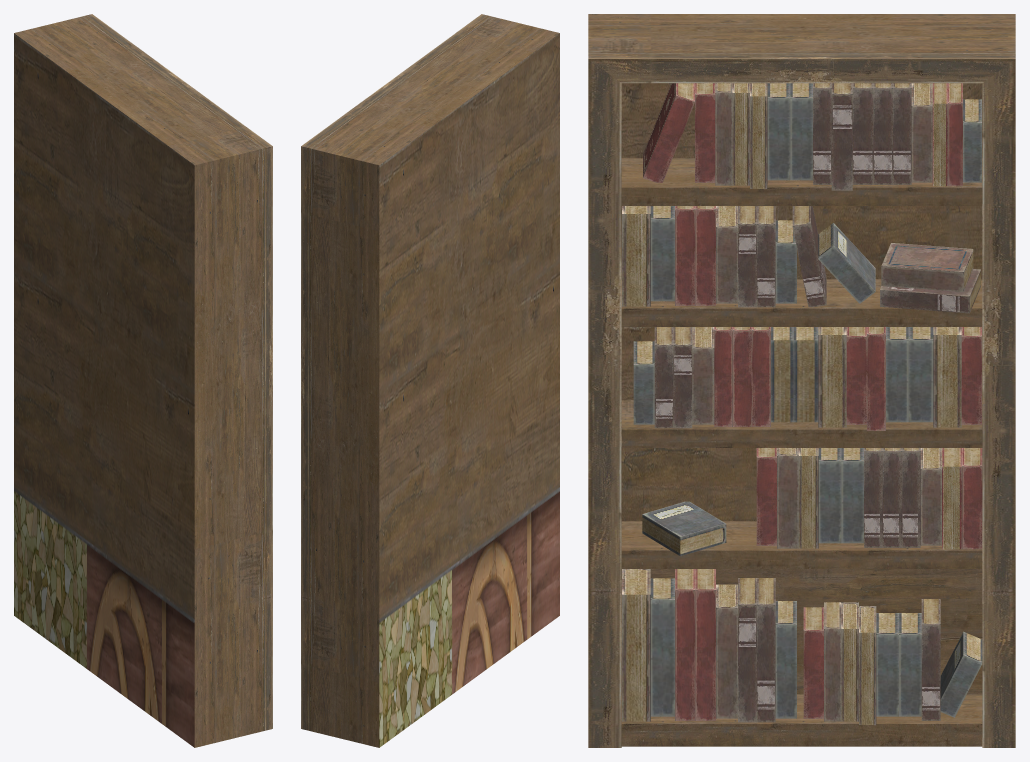
The model's file is bg_lut_memonast_bookshelf01_sm_old.FBX.
3 views of the same model, side by side, from view 1: azimuth 30°, elevation 25°; view 2: azimuth 150°, elevation 25°; view 3: azimuth 270°, elevation 25° (orthographic). The views are drawn at different scales.
Visible parts, largest first — view 1: bg_lut_memonast_bookshelf01_sm_old; view 2: bg_lut_memonast_bookshelf01_sm_old; view 3: bg_lut_memonast_bookshelf01_sm_old.
Boxes of the visible parts, x1,y1,x2,y2 form: bg_lut_memonast_bookshelf01_sm_old: (14,14,272,747); bg_lut_memonast_bookshelf01_sm_old: (301,14,559,747); bg_lut_memonast_bookshelf01_sm_old: (588,14,1015,747).
Size of the model in its own units: 35.18 by 228 by 128.
